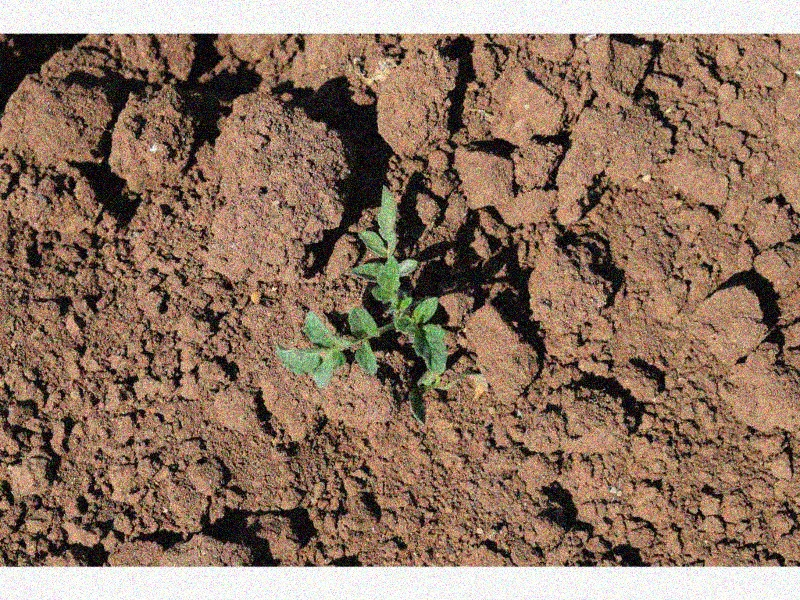tomato: (276, 182, 447, 393)
